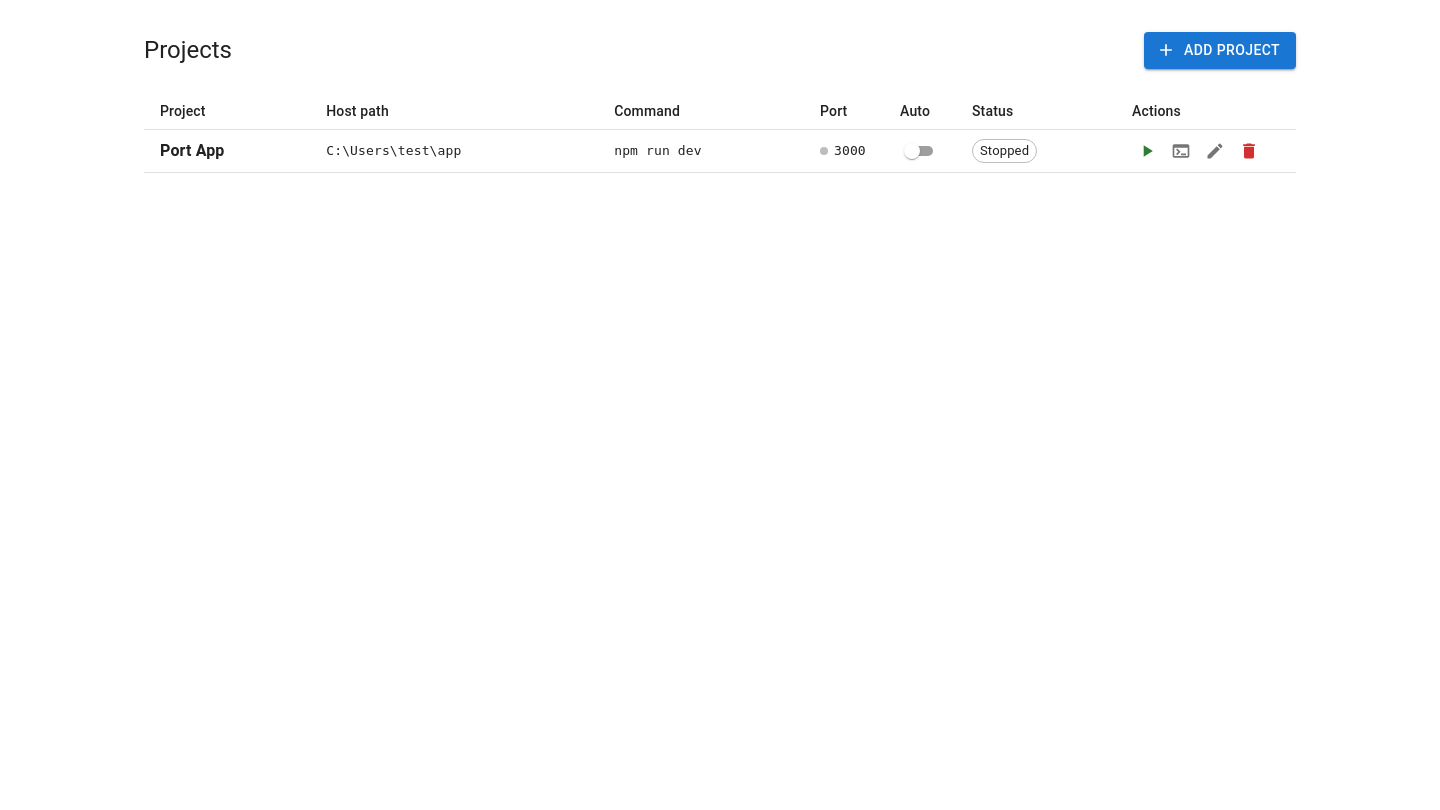
Test: ProjectRegistryPage › shows port-occupied error in snackbar on start failure
This screenshot has width=1440, height=810.
Expected: the text "Port App" is shown, [160,140,224,160]
Click the button named "start port app": {"x": 1147, "y": 150} [1132,136,1162,166]
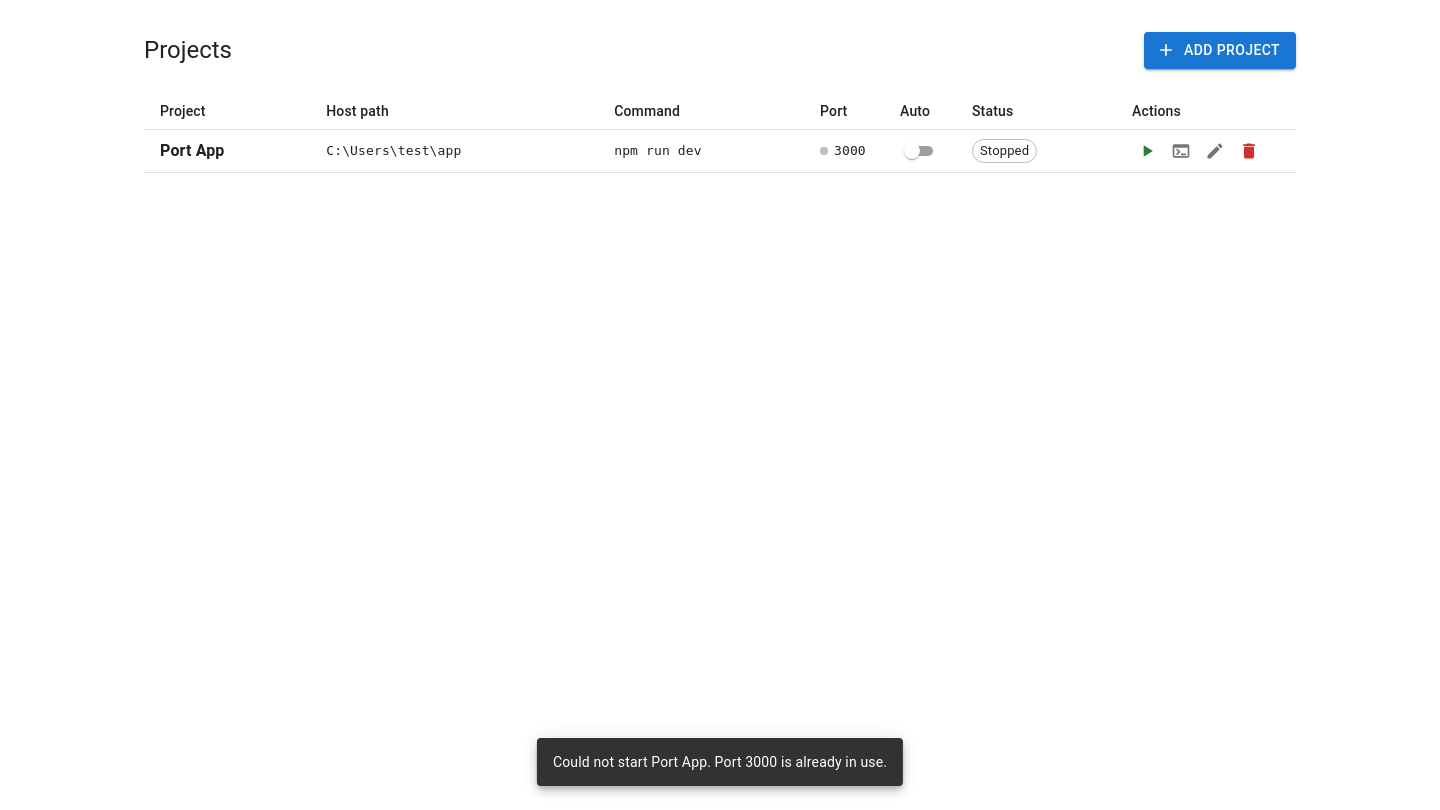
Result: the text "Could not start Port App. Port 3000 is already in use." is shown at [553,754,887,770]
